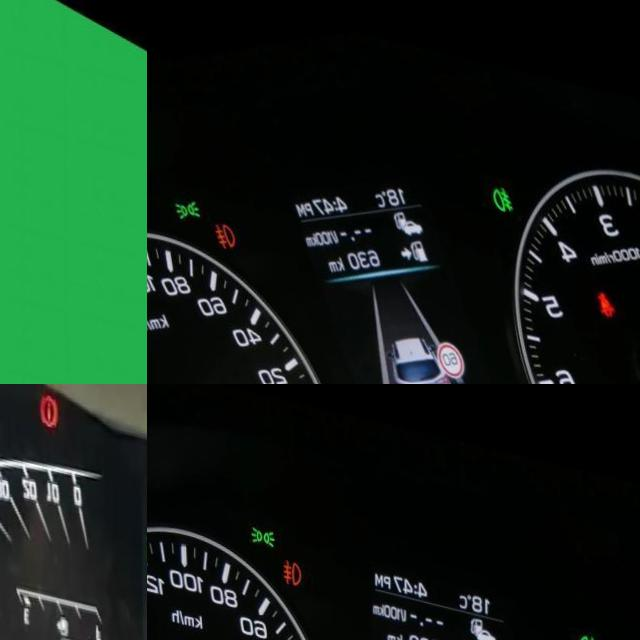Seat Belt: (598, 266, 616, 293)
